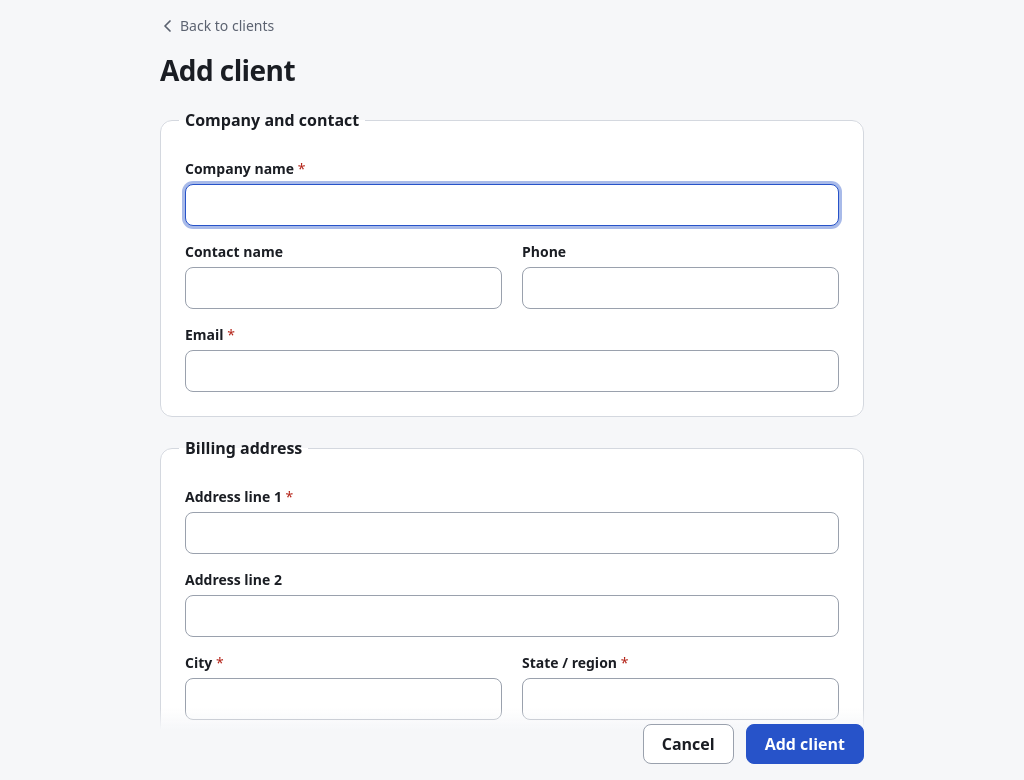
ClientForm › clears a field error as soon as the value becomes valid
The width and height of the screenshot is (1024, 780).
Click the button "Add client" at x=805, y=744, box [746,724,864,764]
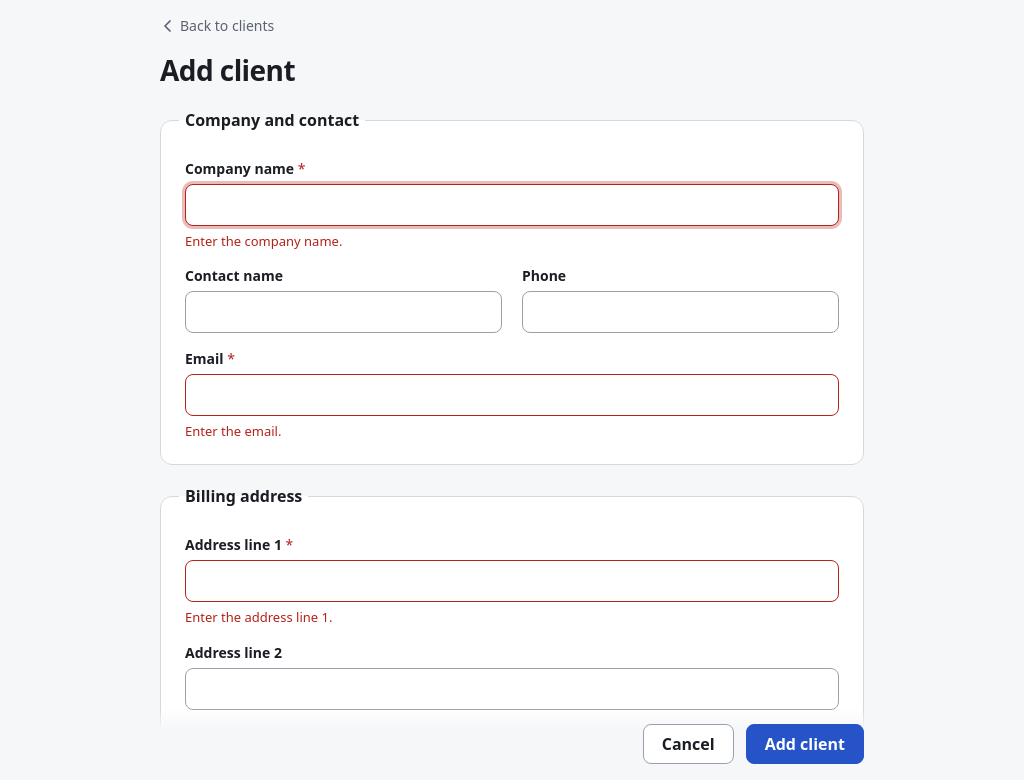
Type "G" into the field labelled "Company name *" at x=512, y=205, box [185,184,839,226]
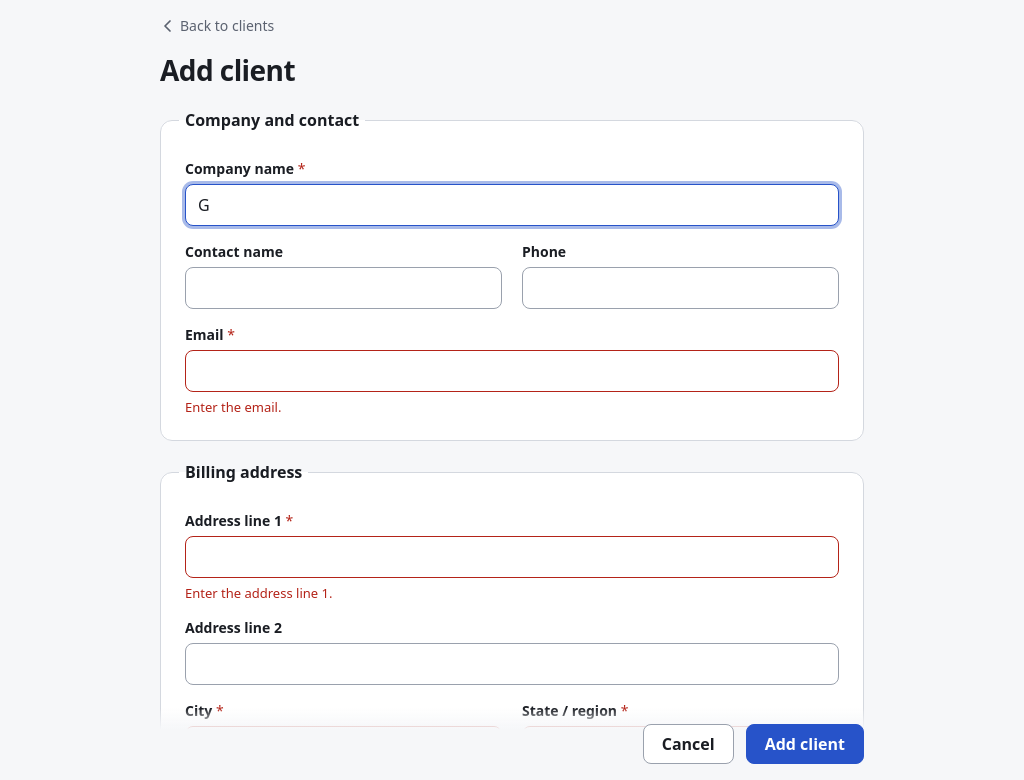
Expected: the text "Enter the company name." is gone
